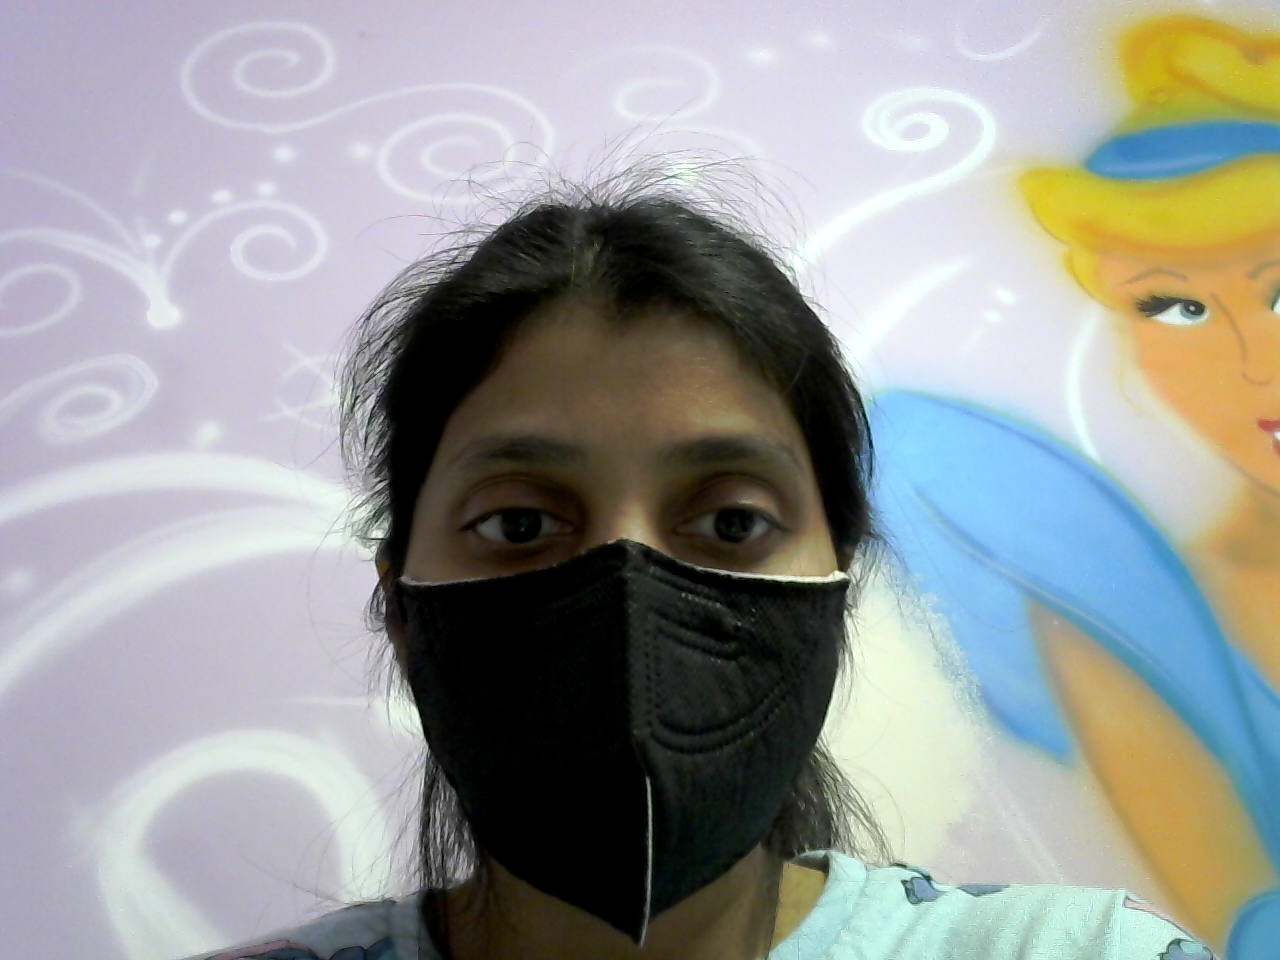mask: (367, 543, 865, 933)
